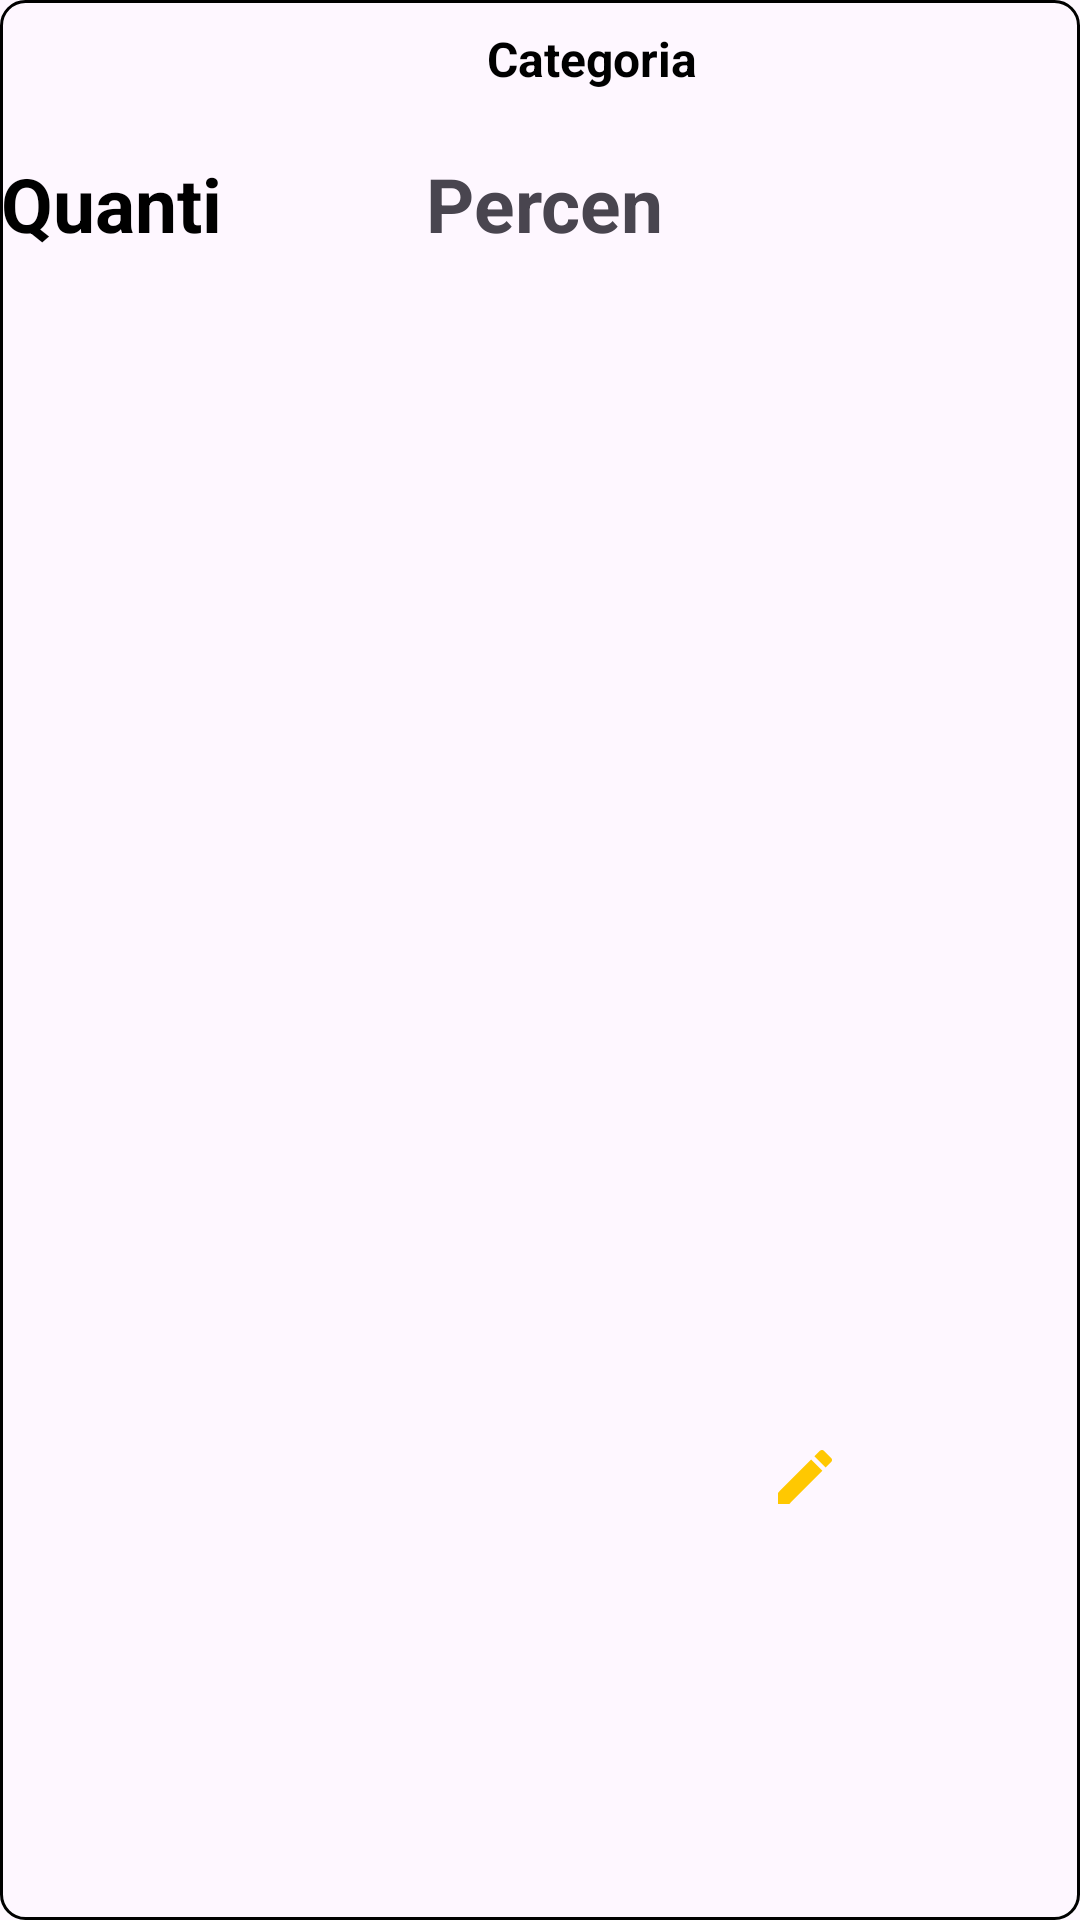

Named icons in this screenshot (1080 x 1920) and their bounding boxes, (x1,y1,x2,y2):
edit: (778,1450,832,1504)
